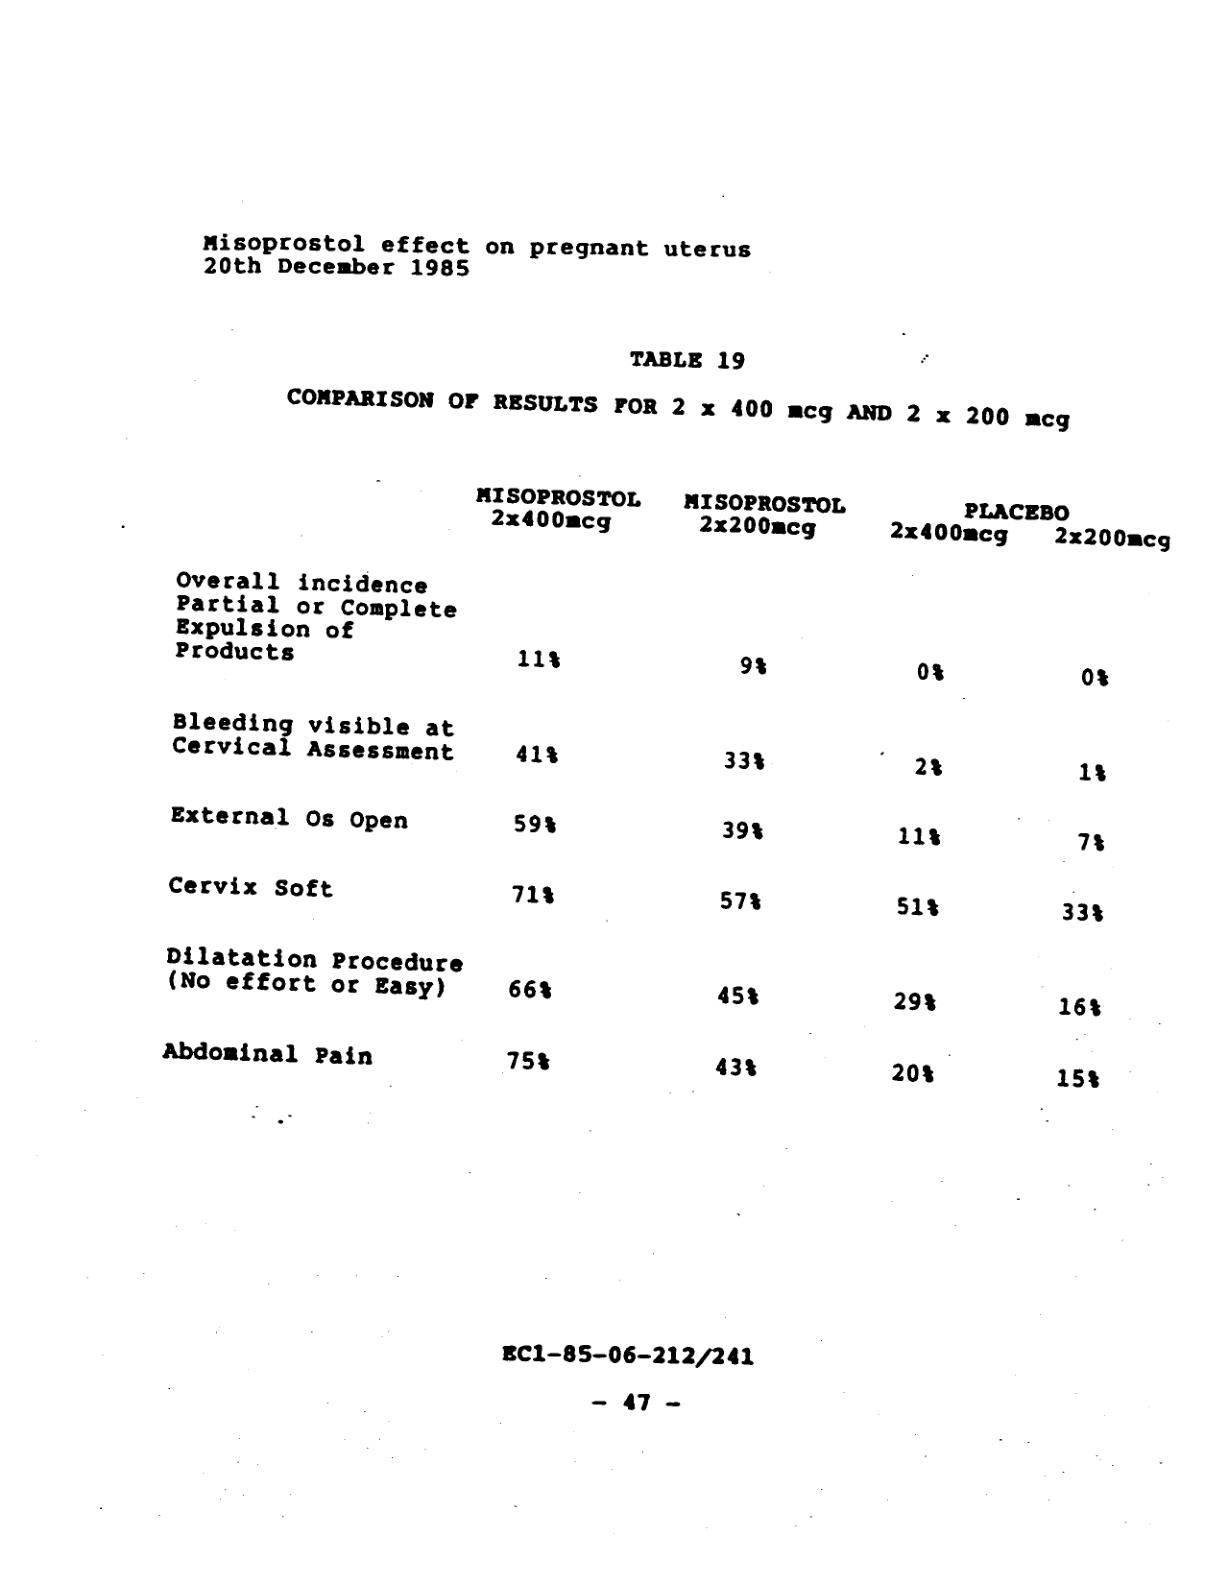nolines: (161, 482, 1175, 1092)
